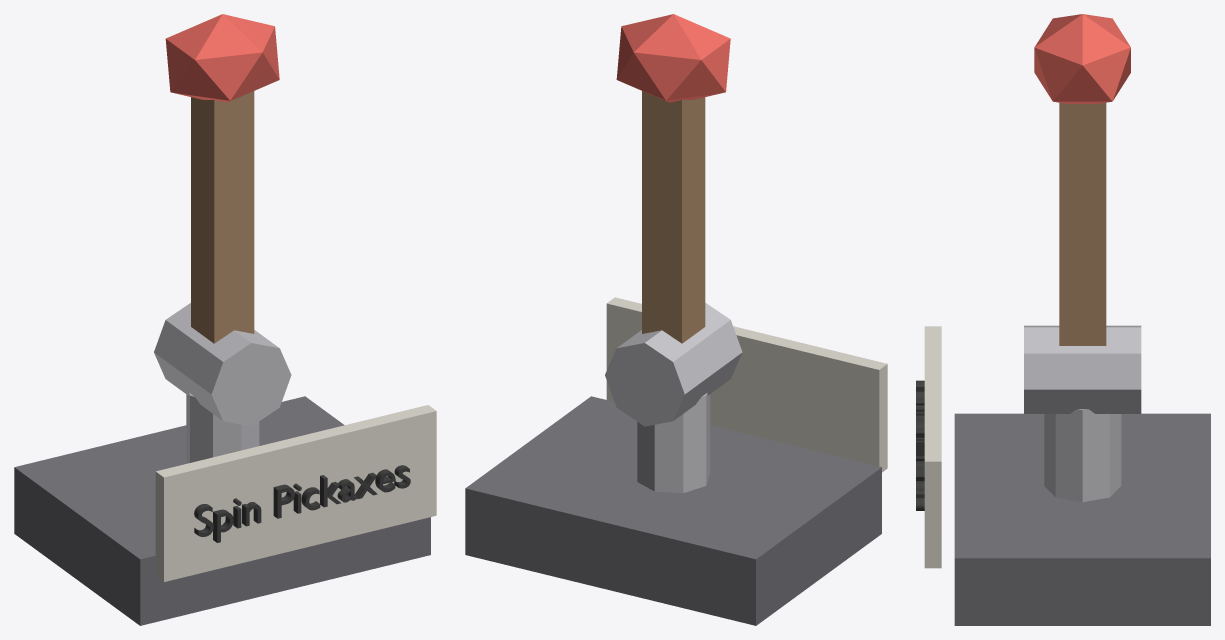
The model's file is SpinLever.fbx.
The picture shows the model from 3 angles, left to right: view 1: azimuth 30°, elevation 25°; view 2: azimuth 150°, elevation 25°; view 3: azimuth 270°, elevation 25°; orthographic projection.
Parts seen in each view (by area): view 1: LeverBase, SpinLabelPlate, LeverArm, LeverHinge, LeverKnob, SpinLabelText, LeverPost; view 2: LeverBase, SpinLabelPlate, LeverArm, LeverHinge, LeverKnob, LeverPost; view 3: LeverBase, LeverArm, LeverHinge, LeverKnob, LeverPost, SpinLabelPlate, SpinLabelText.
Boxes of the visible parts, x1,y1,x2,y2 form: LeverBase: (14, 396, 430, 625); SpinLabelPlate: (155, 405, 436, 581); LeverArm: (191, 91, 254, 343); LeverHinge: (154, 303, 291, 426); LeverKnob: (165, 14, 279, 102); SpinLabelText: (194, 465, 410, 542); LeverPost: (186, 393, 259, 463); LeverBase: (465, 396, 881, 625); SpinLabelPlate: (606, 297, 887, 472); LeverArm: (642, 91, 705, 343); LeverHinge: (605, 303, 742, 426); LeverKnob: (616, 14, 730, 102); LeverPost: (637, 393, 710, 493); LeverBase: (954, 413, 1210, 625); LeverArm: (1059, 102, 1106, 345); LeverHinge: (1024, 325, 1141, 413); LeverKnob: (1034, 14, 1130, 103); LeverPost: (1044, 409, 1121, 502); SpinLabelPlate: (924, 326, 941, 568); SpinLabelText: (916, 380, 924, 510).
Bounding box in the file's own units: 1.6 × 2.79 × 1.38.
